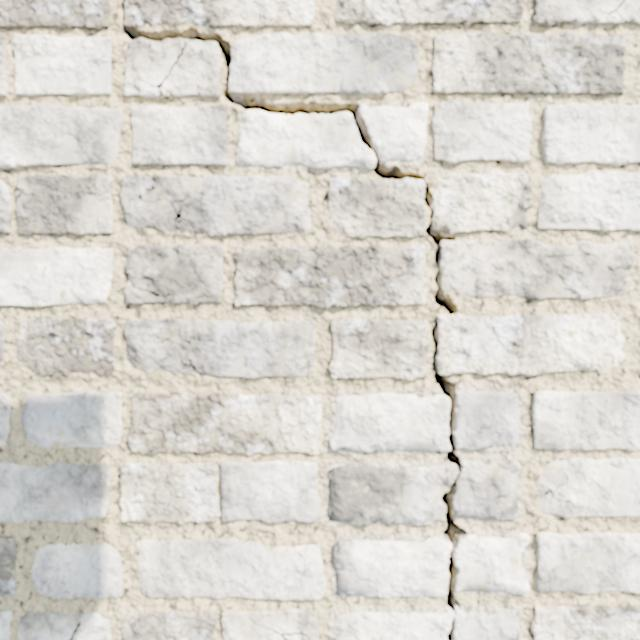broken_brick: (235, 110, 375, 170), (329, 464, 457, 525), (329, 393, 449, 451), (335, 538, 450, 597), (332, 609, 522, 639), (455, 533, 529, 594), (359, 102, 427, 162), (453, 460, 519, 519), (455, 391, 519, 449)
crack: (120, 0, 636, 613), (119, 460, 319, 524), (431, 31, 625, 96), (234, 244, 428, 308), (128, 392, 322, 454), (136, 537, 325, 600), (120, 175, 310, 236), (124, 318, 315, 377), (0, 103, 123, 168), (0, 461, 111, 523), (0, 247, 113, 306), (532, 388, 639, 450), (431, 100, 531, 164), (535, 532, 639, 593), (536, 170, 639, 231), (537, 457, 639, 518), (328, 319, 429, 380), (11, 35, 111, 96), (541, 103, 639, 165), (131, 104, 228, 166), (17, 317, 116, 377), (15, 174, 112, 235), (125, 244, 222, 304), (23, 391, 122, 448), (31, 544, 122, 599), (332, 0, 523, 26), (530, 604, 639, 639), (0, 0, 110, 31), (221, 608, 318, 639), (532, 0, 639, 27), (120, 610, 216, 639), (16, 611, 112, 639), (0, 536, 17, 595), (0, 180, 12, 233), (0, 393, 11, 445), (0, 37, 9, 97), (0, 610, 12, 639), (446, 618, 454, 639), (0, 322, 4, 362), (495, 495, 507, 498)
